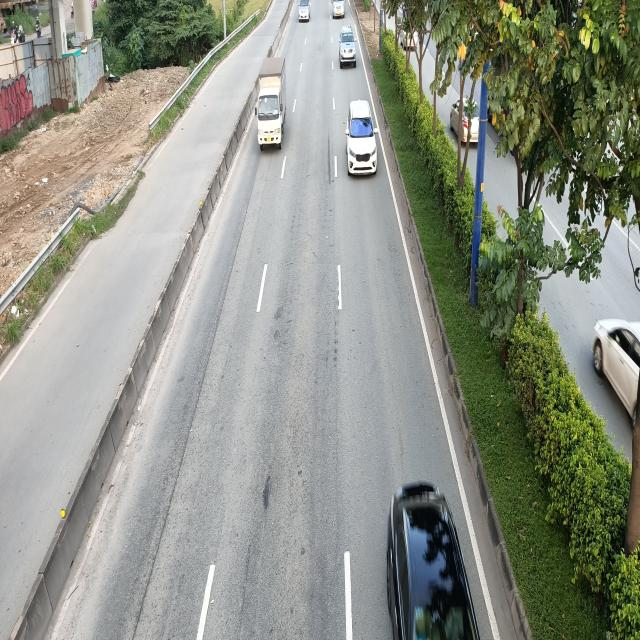car: (346, 100, 378, 176), (340, 26, 358, 68)
truck: (255, 48, 287, 152)
